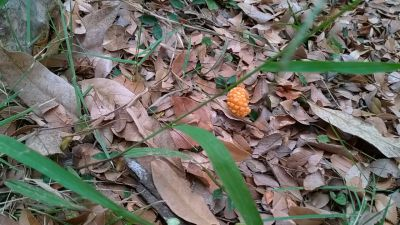eggs: (224, 83, 253, 119)
